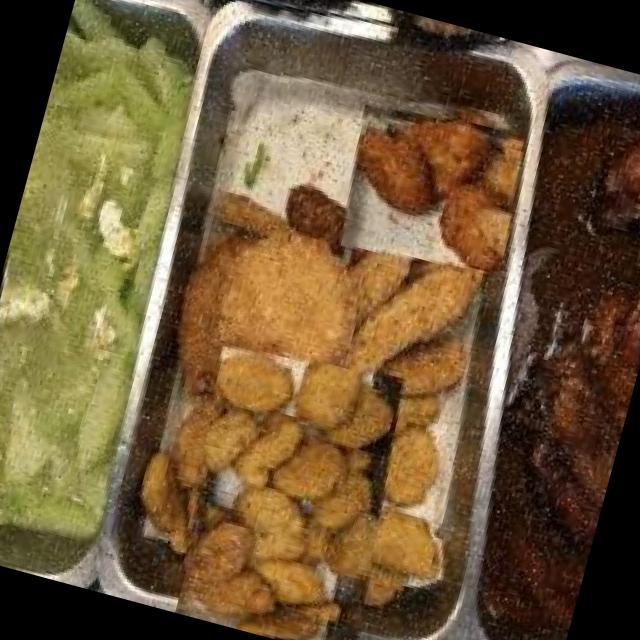chicken_nuggets: (133, 347, 443, 640)
triangle_hash_brown: (332, 86, 534, 291)
